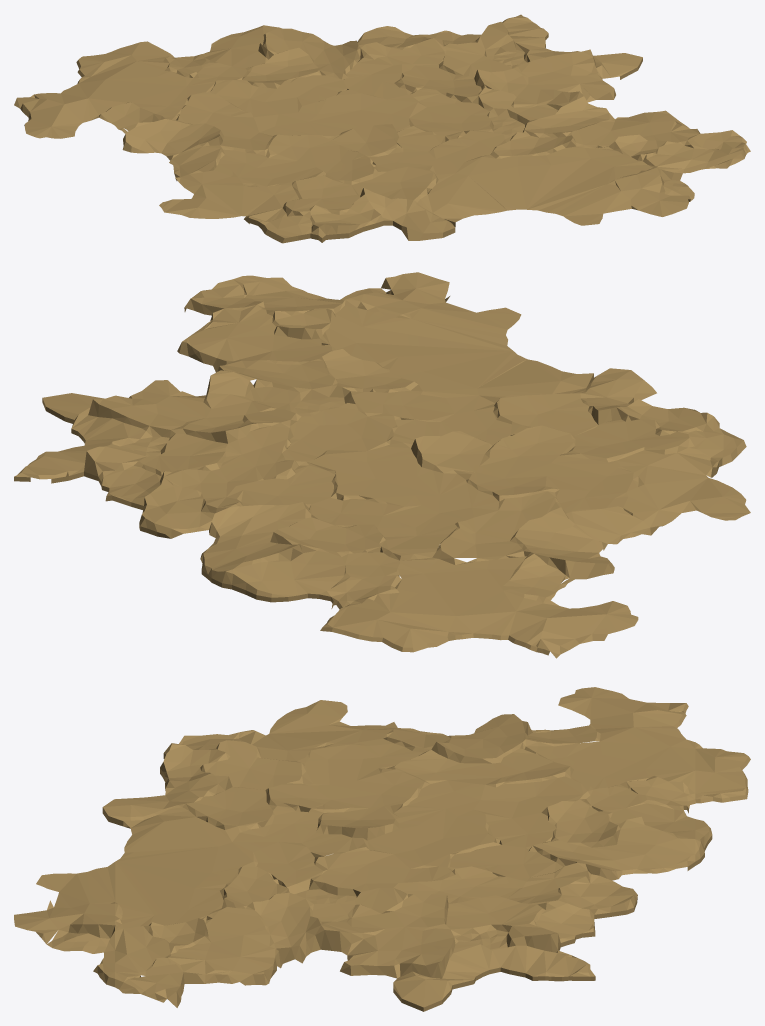
File: zone2-c3.glb
3 renders of one model, top to bottom at view 1: azimuth 30°, elevation 25°; view 2: azimuth 150°, elevation 25°; view 3: azimuth 270°, elevation 25°, orthographic. The views are drawn at different scales.
Parts seen in each view (by area): view 1: ground-dirt-cracked.001; view 2: ground-dirt-cracked.001; view 3: ground-dirt-cracked.001.
Boxes of the visible parts, bbox=[...] form: ground-dirt-cracked.001: bbox=[14, 14, 750, 243]; ground-dirt-cracked.001: bbox=[14, 272, 750, 658]; ground-dirt-cracked.001: bbox=[14, 687, 750, 1011].
Size of the model in its own units: 66.62 by 2.89 by 65.62.
